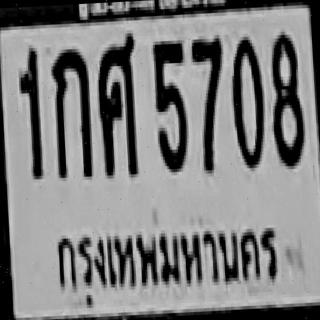A01: (50, 45, 92, 178)
A38: (93, 34, 139, 176)
N00: (228, 34, 266, 167)
N01: (16, 46, 42, 178)
N05: (151, 37, 187, 170)
N07: (190, 35, 228, 171)
N08: (267, 31, 305, 167)
P04: (47, 212, 285, 312)
